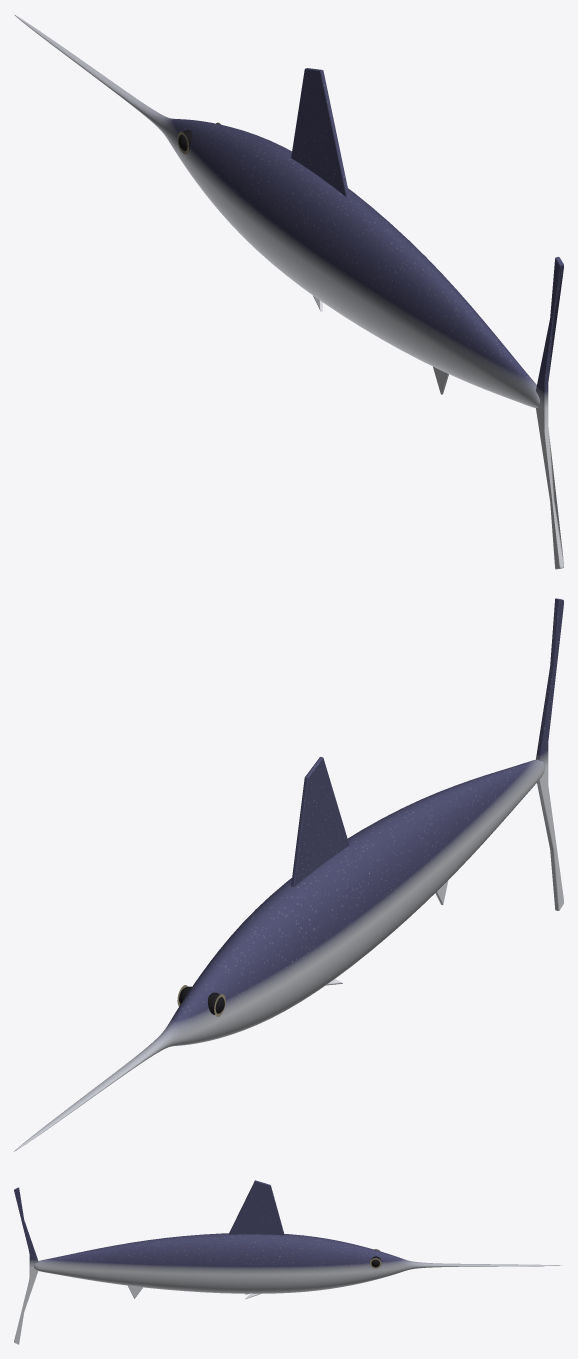
The model's file is Weapon_Swordfish.fbx.
The picture shows the model from 3 angles, top to bottom: view 1: azimuth 30°, elevation 25°; view 2: azimuth 150°, elevation 25°; view 3: azimuth 270°, elevation 25°; orthographic projection. The views are drawn at different scales.
Visible parts, largest first — view 1: Weapon_Swordfish_Game; view 2: Weapon_Swordfish_Game; view 3: Weapon_Swordfish_Game.
Part boxes in pixels (box(x1,y1,x2,y2)): Weapon_Swordfish_Game: box(15, 15, 563, 569); Weapon_Swordfish_Game: box(14, 598, 563, 1151); Weapon_Swordfish_Game: box(14, 1180, 562, 1344).
Bounding box in the file's own units: 0.143 × 0.6888 × 2.1.
